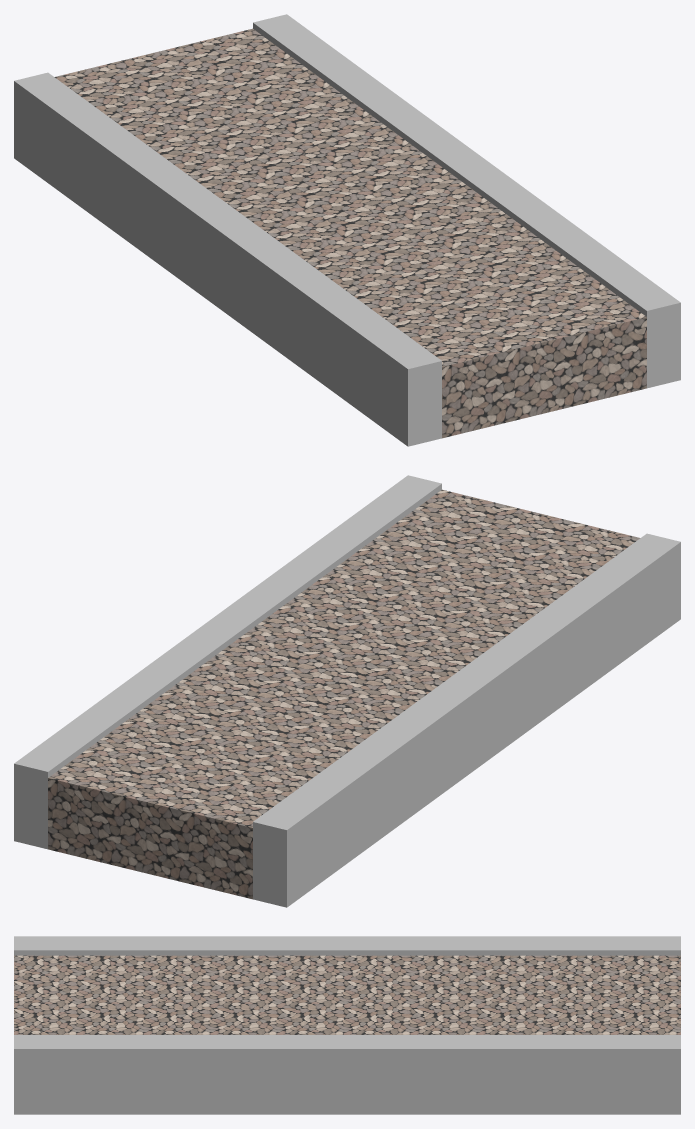
File: cobblestone-path.fbx
The picture shows the model from 3 angles, top to bottom: view 1: azimuth 30°, elevation 25°; view 2: azimuth 150°, elevation 25°; view 3: azimuth 270°, elevation 25°; orthographic projection. The views are drawn at different scales.
Parts seen in each view (by area): view 1: cobblestone_path; view 2: cobblestone_path; view 3: cobblestone_path.
Part boxes in pixels (x1=…): cobblestone_path: x1=14, y1=14, x2=680, y2=446; cobblestone_path: x1=14, y1=475, x2=680, y2=907; cobblestone_path: x1=14, y1=936, x2=680, y2=1114.
Size of the model in its own units: 400 by 109 by 1000.
